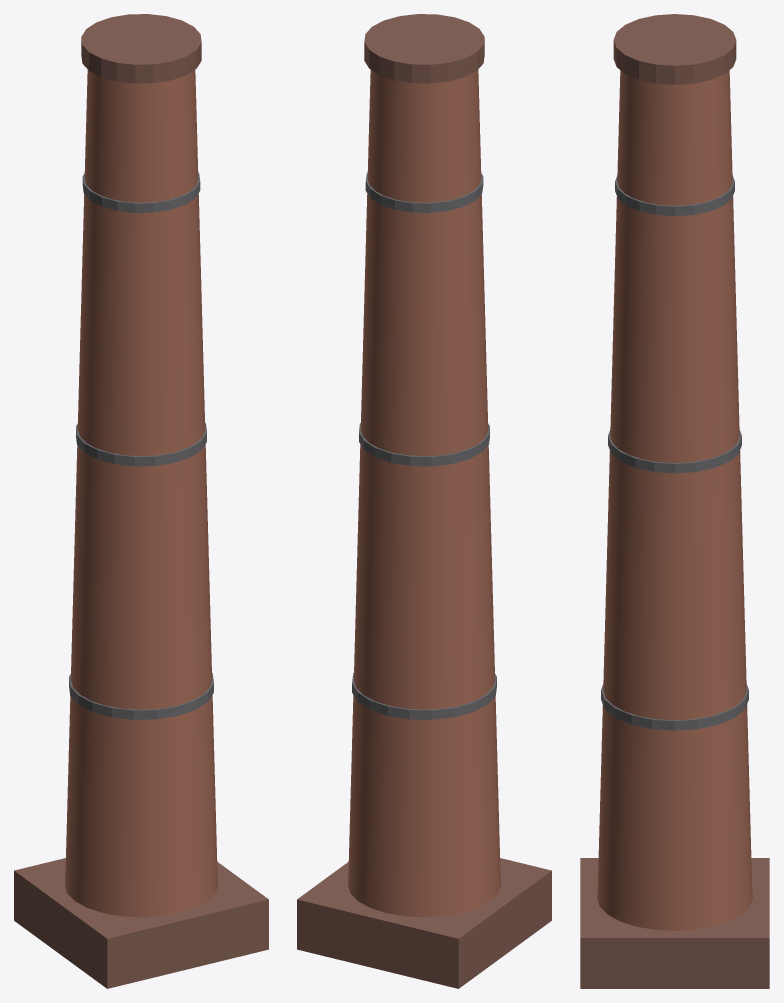
File: Chimney.glb
3 renders of one model, left to right at view 1: azimuth 30°, elevation 25°; view 2: azimuth 150°, elevation 25°; view 3: azimuth 270°, elevation 25°, orthographic.
Visible parts, largest first — view 1: Stack, Plinth, Crown, Iron band, Iron band.001, Iron band.002; view 2: Stack, Plinth, Crown, Iron band, Iron band.001, Iron band.002; view 3: Stack, Plinth, Crown, Iron band, Iron band.001, Iron band.002.
Boxes of the visible parts, x1,y1,x2,y2 form: Stack: (64, 70, 218, 917); Plinth: (14, 858, 268, 988); Crown: (81, 14, 201, 83); Iron band: (69, 673, 213, 719); Iron band.001: (76, 423, 206, 466); Iron band.002: (82, 173, 200, 212); Stack: (347, 70, 501, 917); Plinth: (297, 858, 551, 988); Crown: (364, 14, 484, 83); Iron band: (352, 673, 496, 719); Iron band.001: (359, 423, 489, 466); Iron band.002: (365, 173, 483, 212); Stack: (597, 70, 752, 930); Plinth: (580, 858, 769, 988); Crown: (613, 14, 736, 84); Iron band: (601, 684, 748, 730); Iron band.001: (608, 430, 741, 473); Iron band.002: (615, 176, 734, 216).
Bounding box in the file's own units: 5.4 × 28.6 × 5.4.
